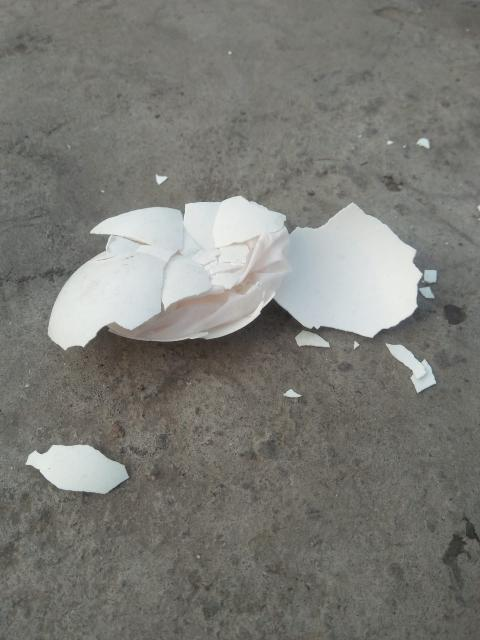Roto: (46, 194, 291, 351), (273, 201, 424, 338), (24, 442, 130, 495)
